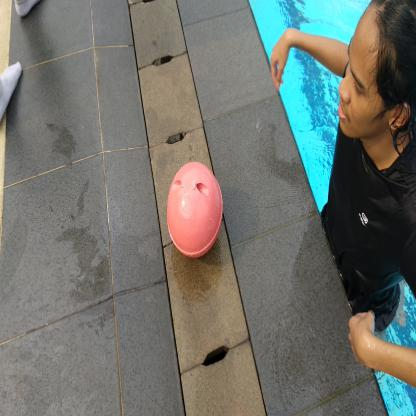red_buoy: (159, 147, 228, 267)
